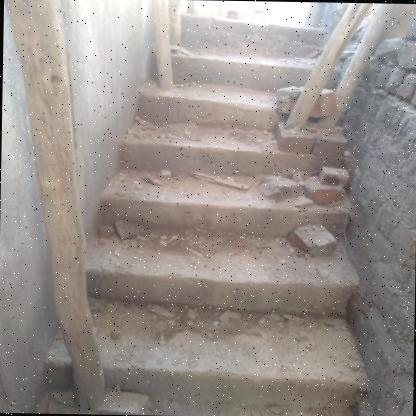stair: (52, 6, 368, 416)
